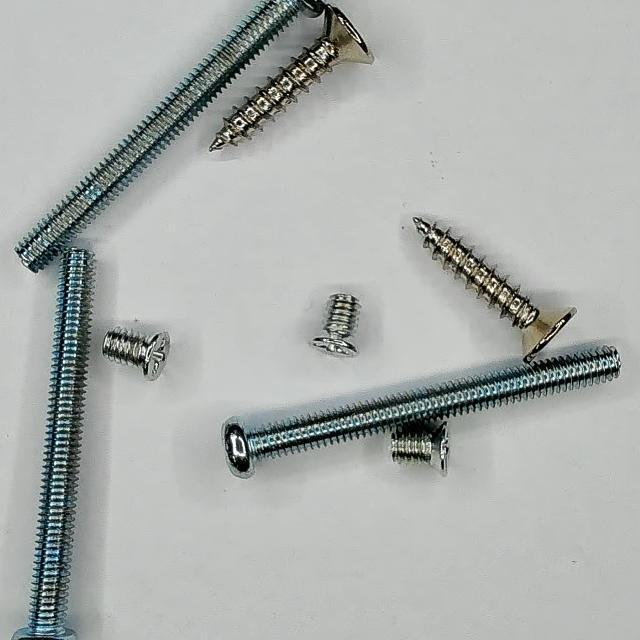Screw: (15, 0, 323, 272), (243, 347, 622, 460), (11, 248, 93, 640), (414, 217, 578, 364), (210, 6, 375, 150), (103, 328, 169, 380), (392, 422, 450, 476), (313, 294, 360, 356)
